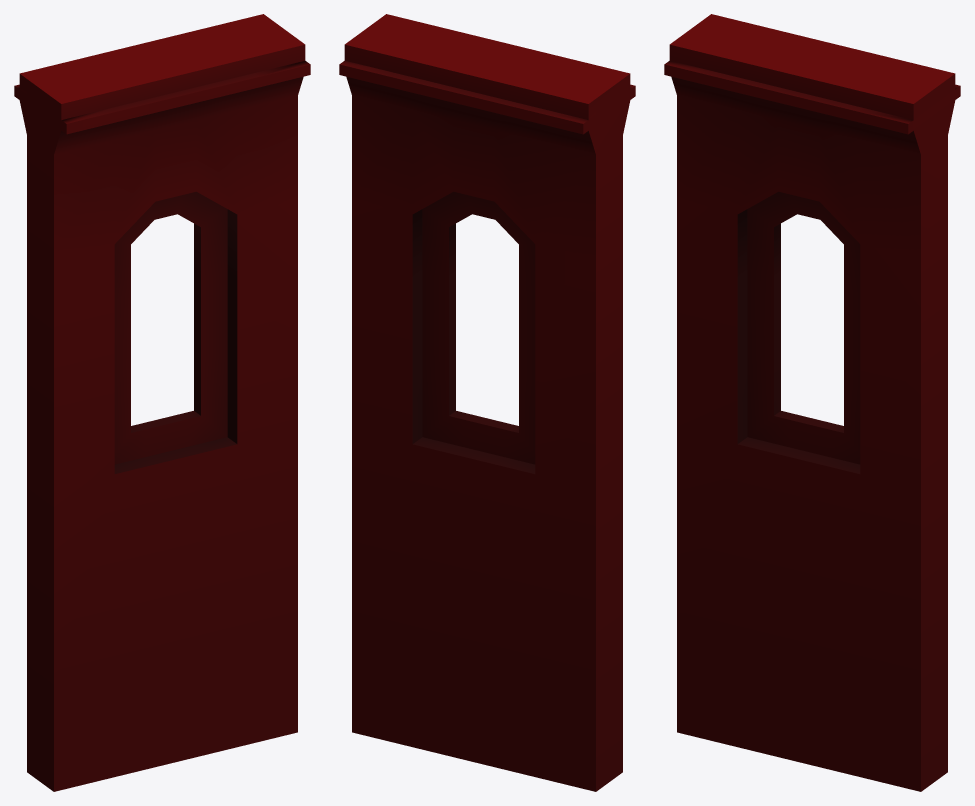
The model's file is buildings-ruins-castleruins_v2.fbx.
The picture shows the model from 3 angles, left to right: view 1: azimuth 30°, elevation 25°; view 2: azimuth 150°, elevation 25°; view 3: azimuth 330°, elevation 25°; orthographic projection.
Parts seen in each view (by area): view 1: CastleRuins_v2; view 2: CastleRuins_v2; view 3: CastleRuins_v2.
Boxes of the visible parts, left/top/right/bottom form: CastleRuins_v2: left=14, top=14, right=310, bottom=791; CastleRuins_v2: left=339, top=14, right=635, bottom=791; CastleRuins_v2: left=664, top=14, right=960, bottom=791.
Bounding box in the file's own units: 9.04 × 24.53 × 3.34.
